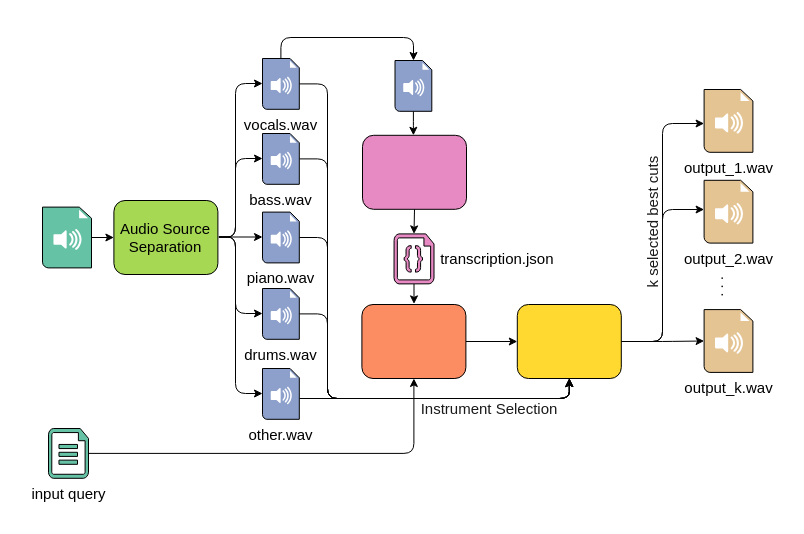
The diagram is 804 pixels wide and 534 high, and some of its shapes have lost their labels. Each missing label, with the box of its shape:
Audio Cut Extraction: (516, 304, 621, 378)
Automatic Lyric Transcription: (362, 134, 466, 209)
input.mp3: (42, 206, 92, 268)
Phonetic-Based Chunking: (361, 304, 466, 378)
vocals_for_transription.wav: (394, 60, 432, 111)
